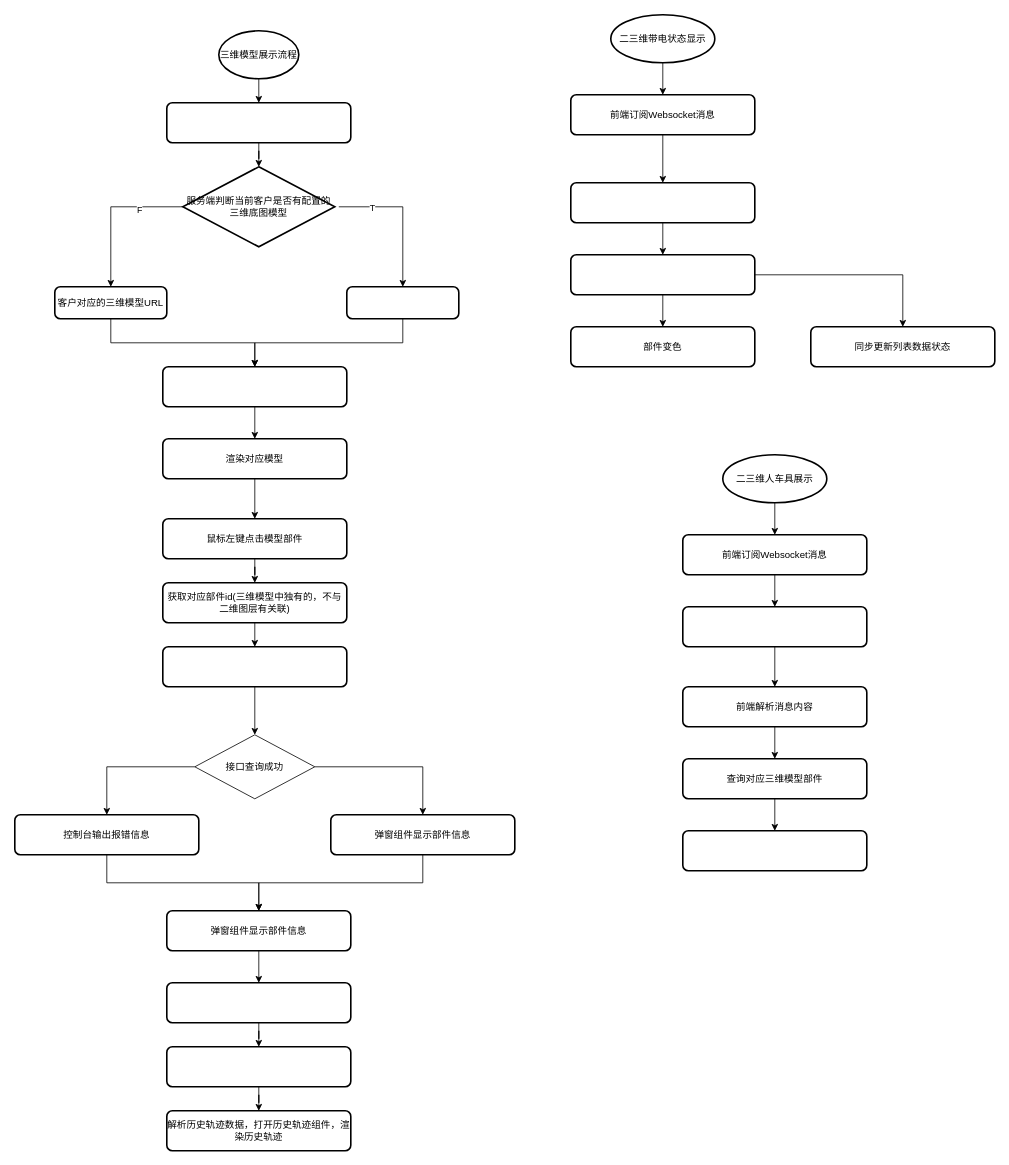
Image size: 1009x1165. Some labels were removed from this diagram. Here are the shapes that lost their labels. From the top down, the centre of each, then its label:
the point at 258,122: 安全防护-2d页面
the point at 662,202: 服务端发布websocket馈线带电状态消息
the point at 662,274: 解析消息内容，查询对应三维模型部件
the point at 402,302: 部门配置的模型URL
the point at 254,386: 单击3D按钮，进入三维页面
the point at 774,626: 服务端发布人车实时位置消息
the point at 254,666: 根据id调用三维模型部件属性接口
the point at 774,850: 更新模型位置、方向、状态
the point at 258,1002: 点击历史轨迹按钮
the point at 258,1066: 通过接口查询历史轨迹数据
